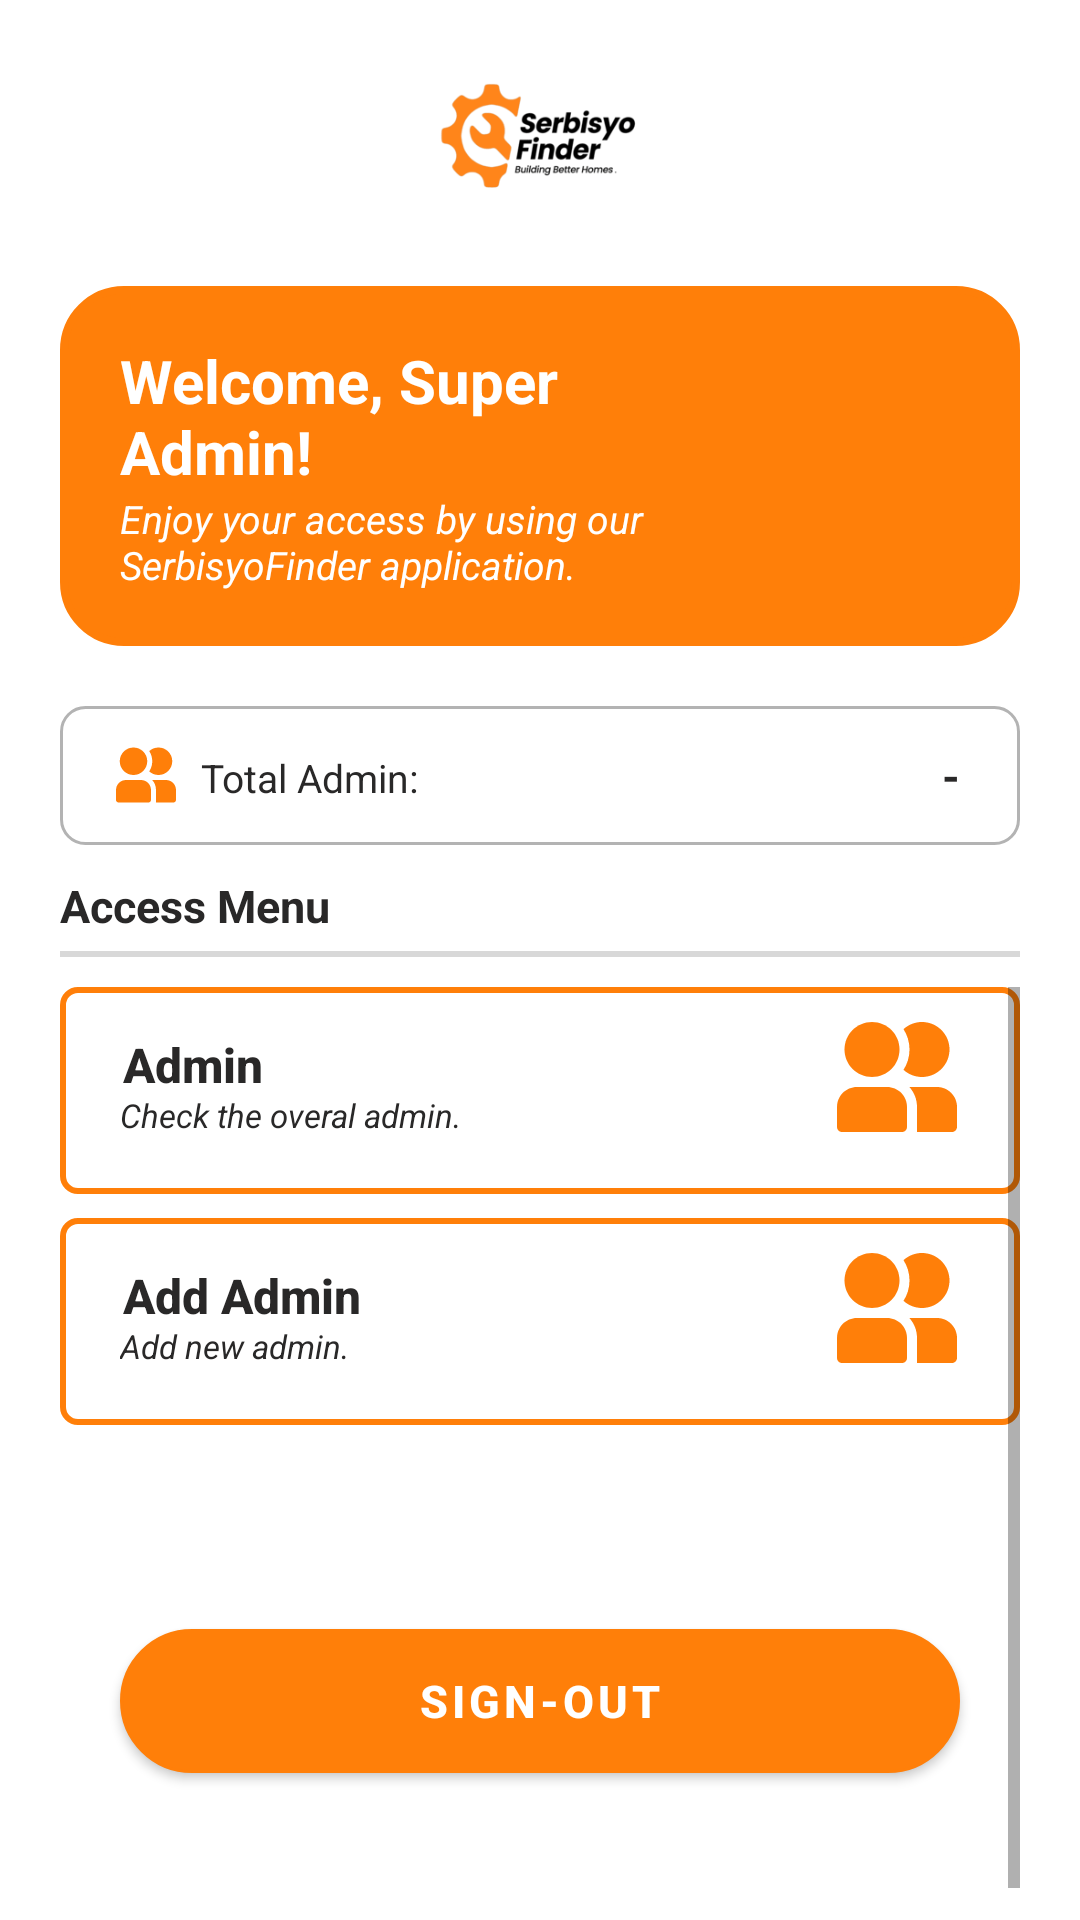

Point at icon controls on the screen. Image size 1080*1920, points as (x,y).
users: (146,775)
